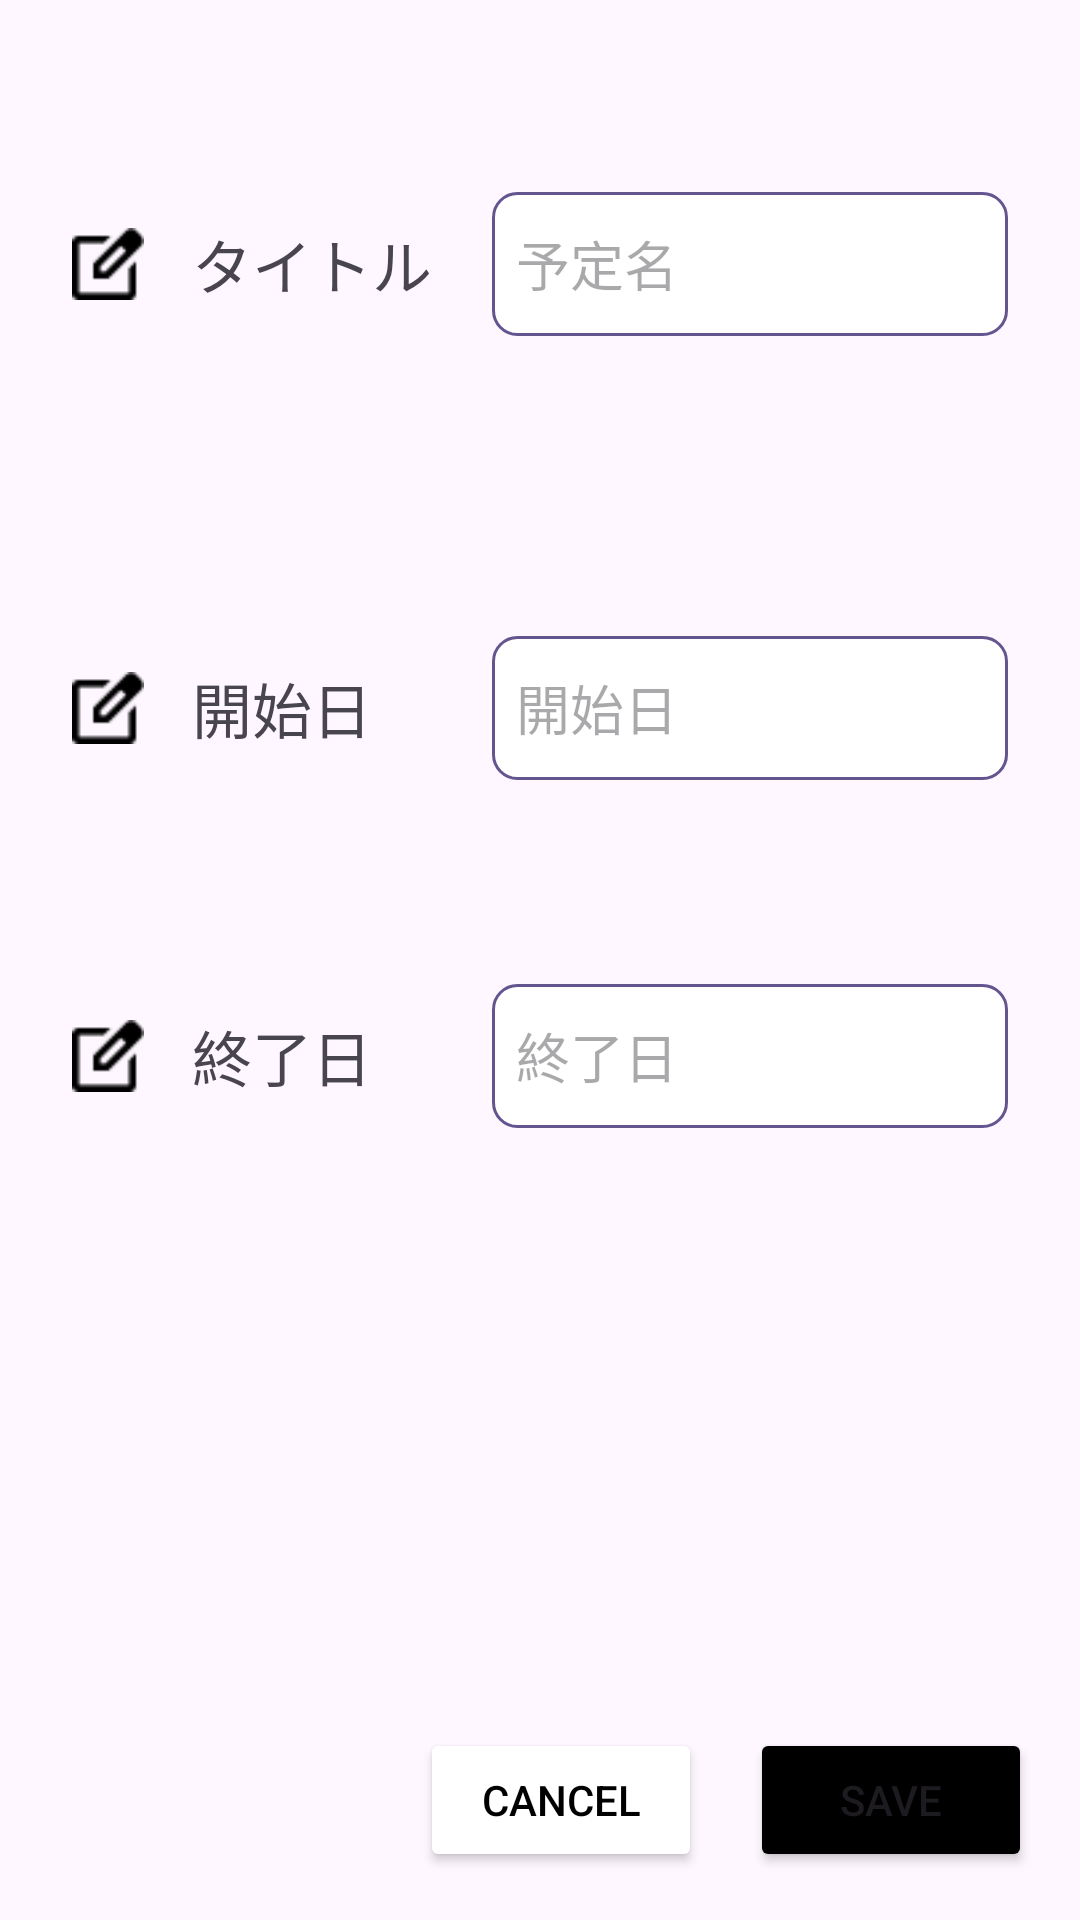

Point at icon controls on the screen. Image size 1080px×1920px, points as point (x, y).
edit square: point (108, 264), point (108, 708), point (108, 1056)
